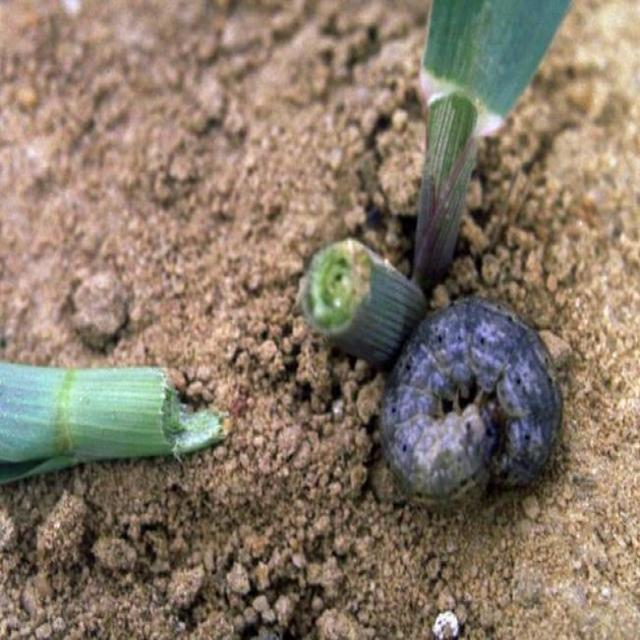black cutworm: (383, 296, 573, 504)
